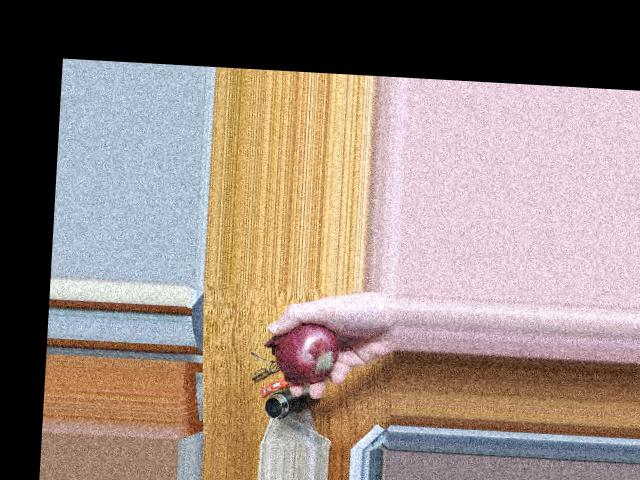onion: (275, 322, 337, 383)
